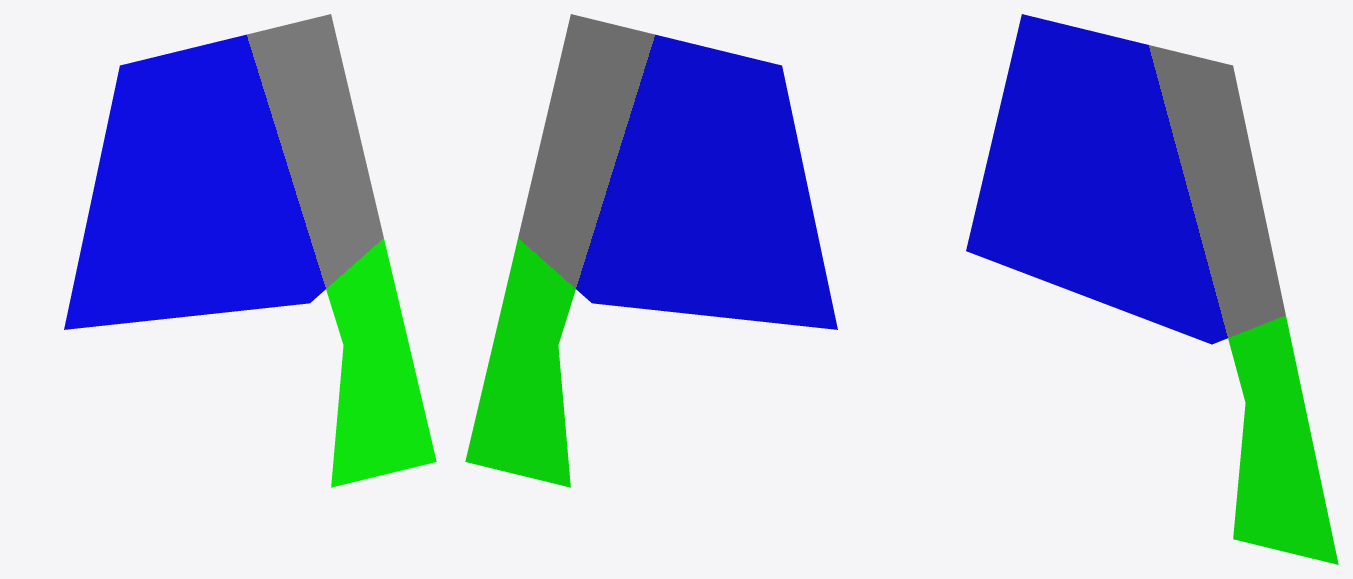
Rendered from comparison.gltf.
3 views of the same model, side by side, from view 1: azimuth 30°, elevation 25°; view 2: azimuth 150°, elevation 25°; view 3: azimuth 330°, elevation 25° (orthographic).
Size of the model in its own units: 0.7 by 0.75 by 0.
1 material, 1 textured.
